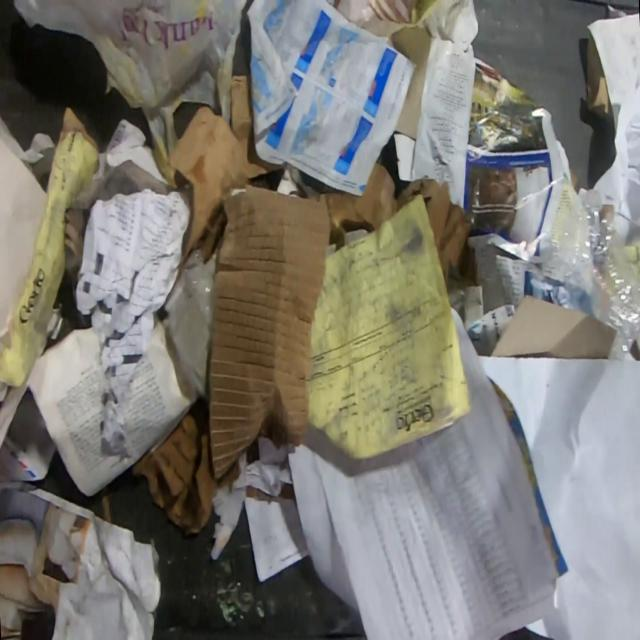cardboard: (128, 185, 334, 540), (0, 102, 102, 392), (166, 74, 286, 269), (320, 159, 480, 291), (359, 16, 432, 140), (488, 293, 615, 359), (586, 29, 614, 129), (64, 207, 89, 278), (247, 485, 271, 503), (279, 482, 295, 500)
rigid_plastic: (162, 244, 218, 406)
soft_plastic: (9, 0, 249, 190), (548, 185, 640, 362)
